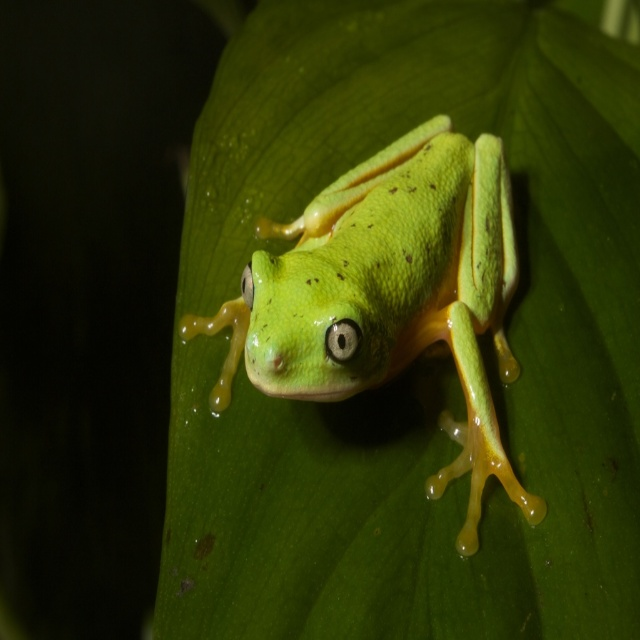Frog: (177, 109, 550, 560)
